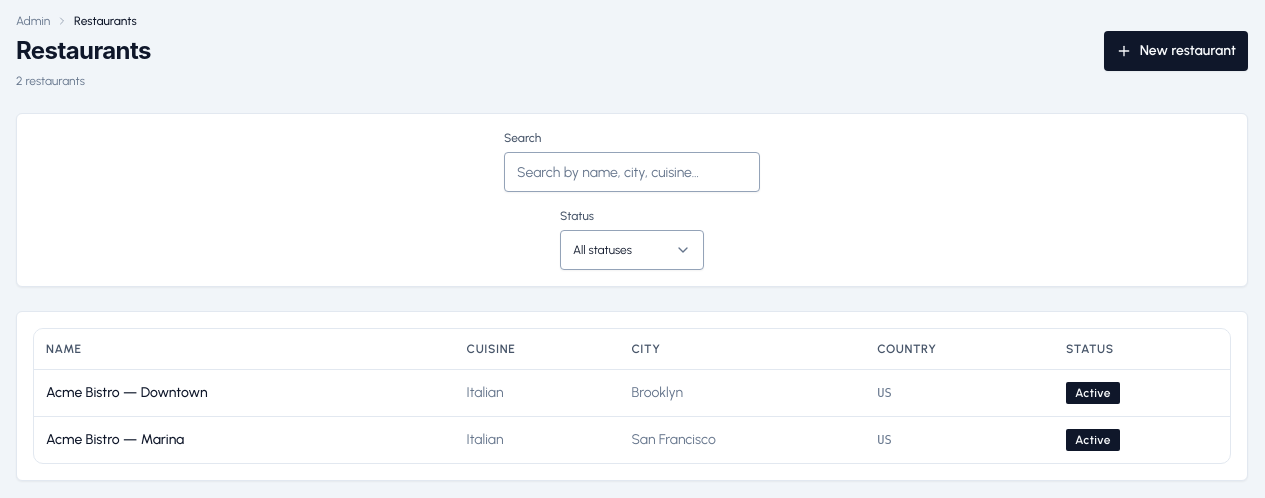
Test case: Restaurant Admin Pages › RestaurantListPage › filters restaurants by search query
Expected: the link "Acme Bistro — Downtown" is shown, [46,384,208,400]
Step 1. Type "Marina" into the field with placeholder "Search by name, city, cuisine…" → [632, 172], box [504,152,760,192]
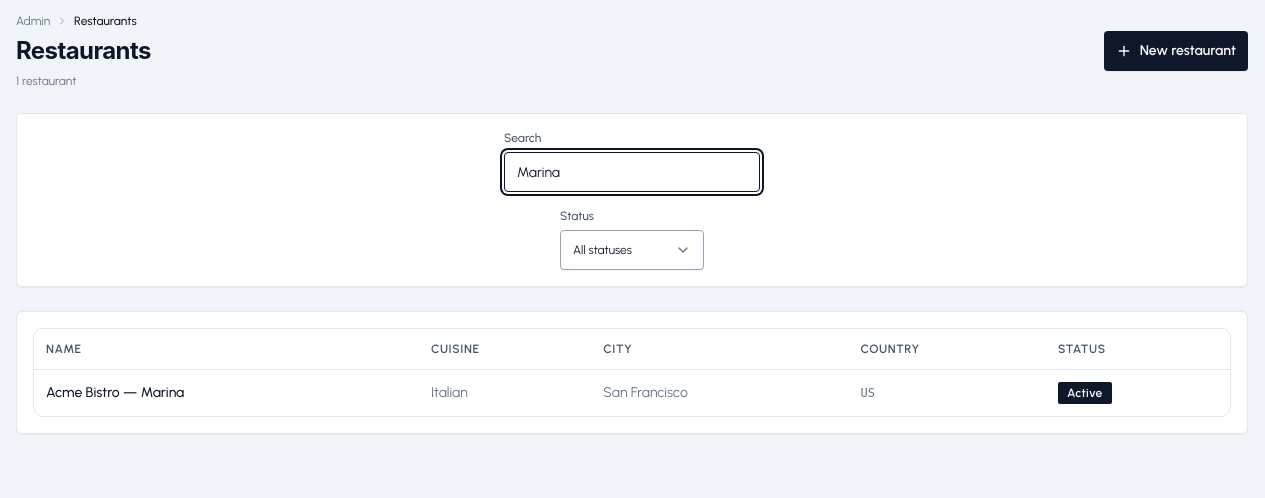
Expected: the link "Acme Bistro — Marina" is shown, [46,384,184,400]
Now the link "Acme Bistro — Downtown" is gone
